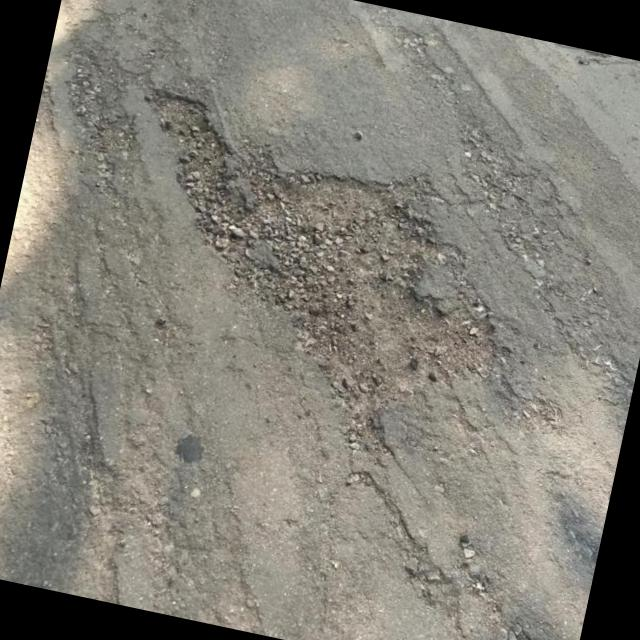pothole: (168, 124, 544, 460), (118, 84, 247, 248)
